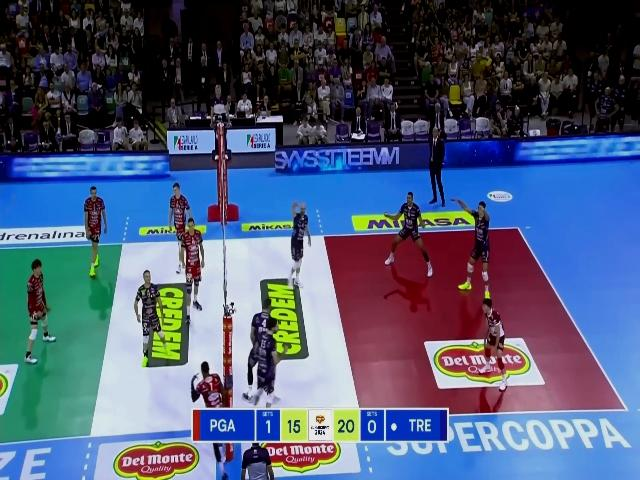volleyball court: (1, 227, 630, 446)
